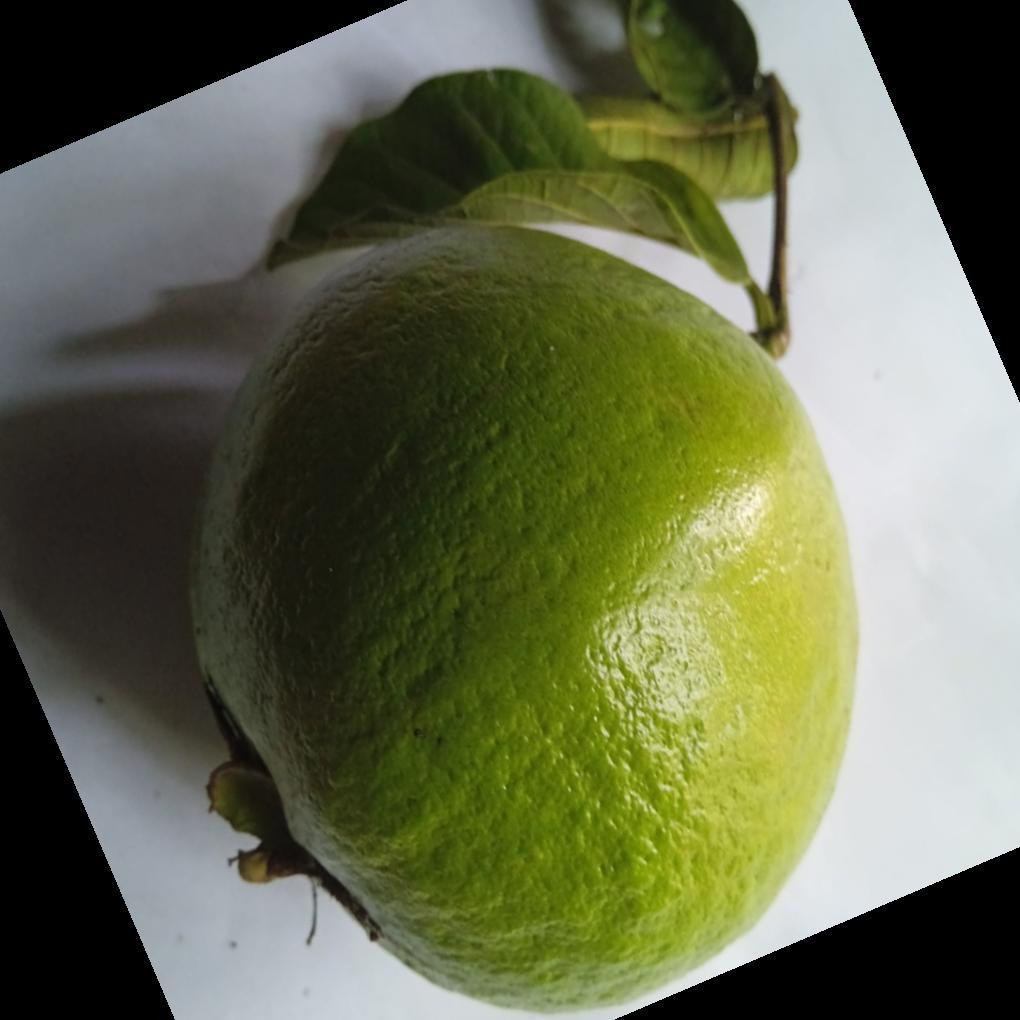FreshGuava: (186, 221, 863, 1016)
